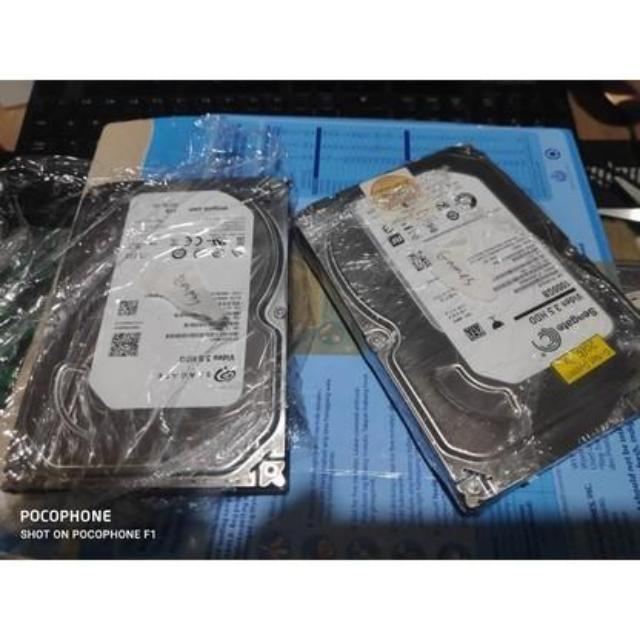DISK: (292, 141, 640, 527), (5, 164, 297, 502)
